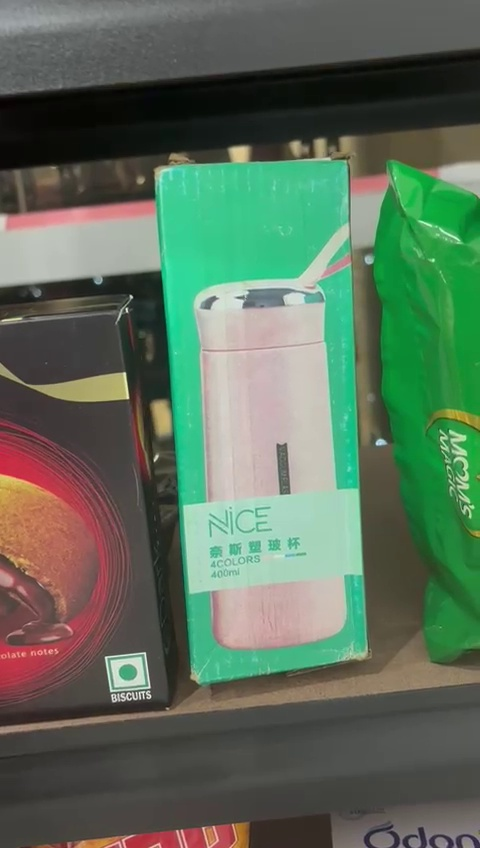Bottle: (150, 169, 369, 675)
